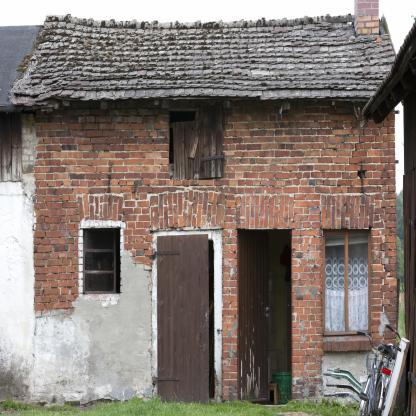Building Outline: (11, 0, 404, 409)
Cornice: (321, 195, 375, 228), (77, 194, 124, 228)
Dont: (323, 323, 410, 416), (359, 41, 407, 128)
Door: (237, 229, 292, 405), (157, 235, 213, 403)
Facade: (34, 52, 396, 409)
Floor Slab: (34, 207, 396, 217)
Ground Floor: (34, 217, 396, 410)
Roof: (11, 12, 404, 113)
Top Floor: (34, 99, 396, 206)
Window: (323, 228, 371, 335), (169, 111, 214, 180), (83, 229, 120, 294)
